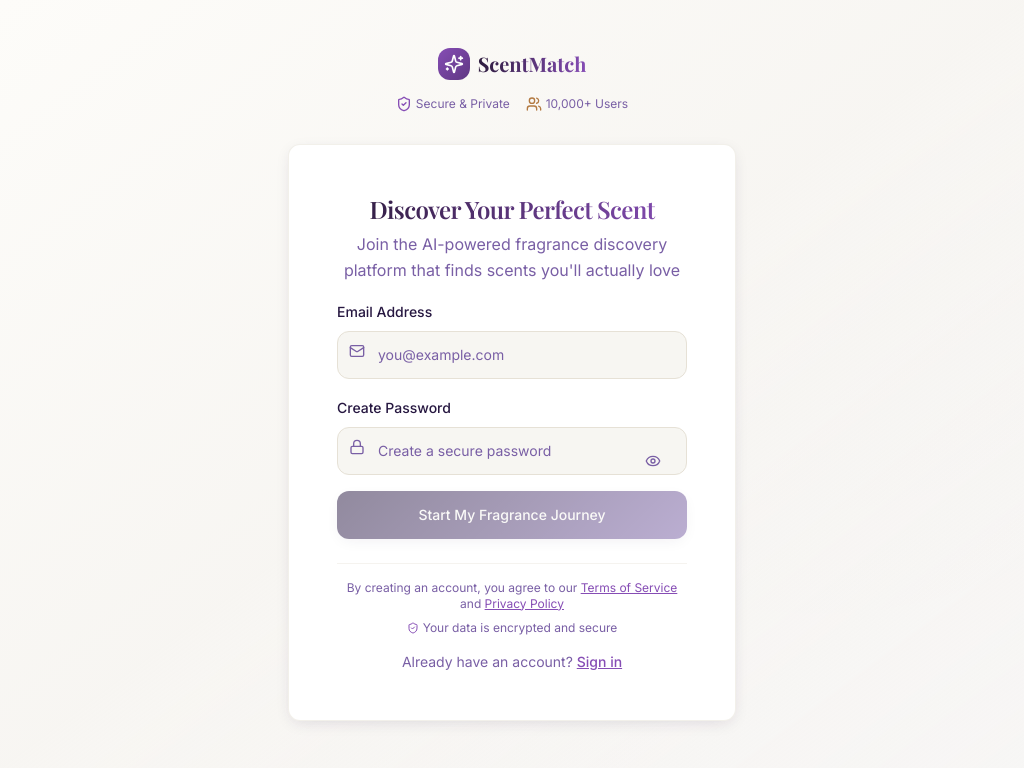
Test case: Authentication Integration - Final Validation › 1. Complete User Registration Flow › handles registration errors gracefully with recovery options
The width and height of the screenshot is (1024, 768).
Type "existing@example.com" into the field labelled "Email Address" at (512, 354), box top-left (337, 330), bottom-right (687, 378)
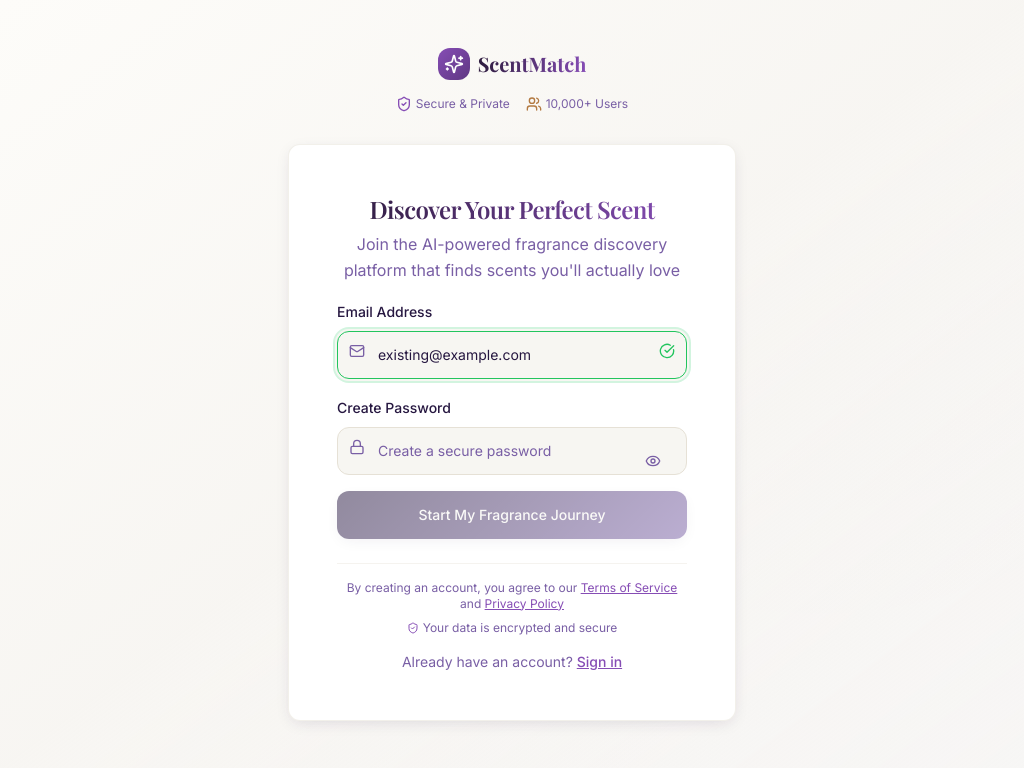
Type "SecurePassword123" into the password field labelled "Create Password" at (512, 450), box top-left (337, 426), bottom-right (687, 474)
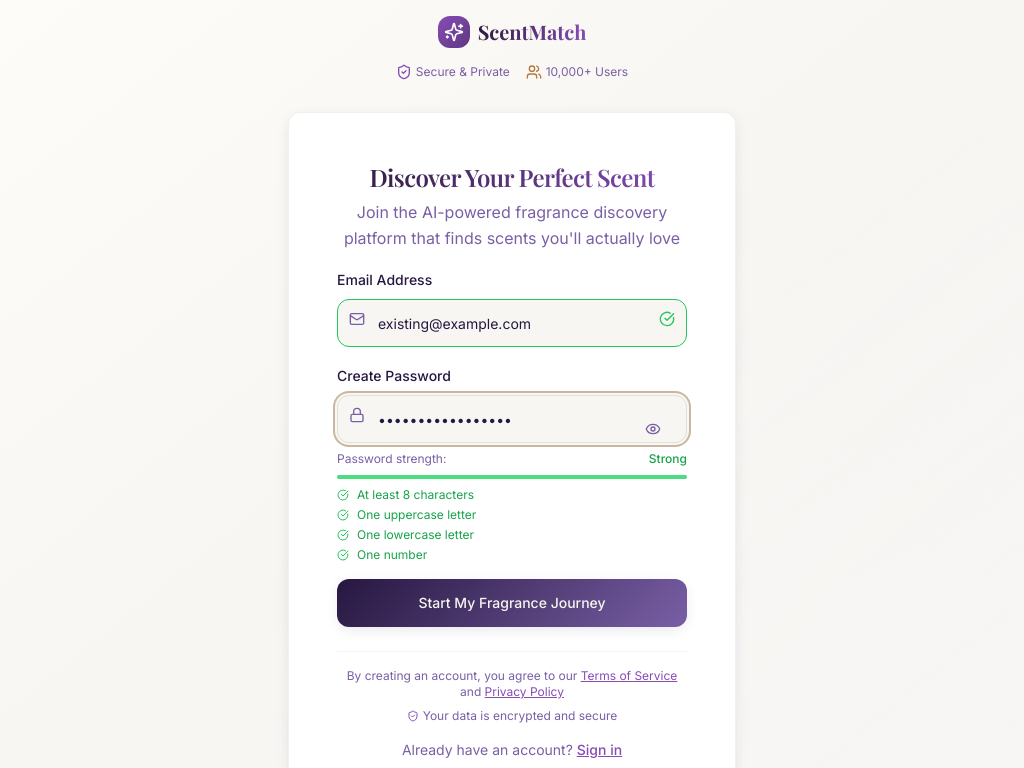
Click the button "Start My Fragrance Journey" at (512, 603), box top-left (337, 579), bottom-right (687, 627)
(page scrolled)
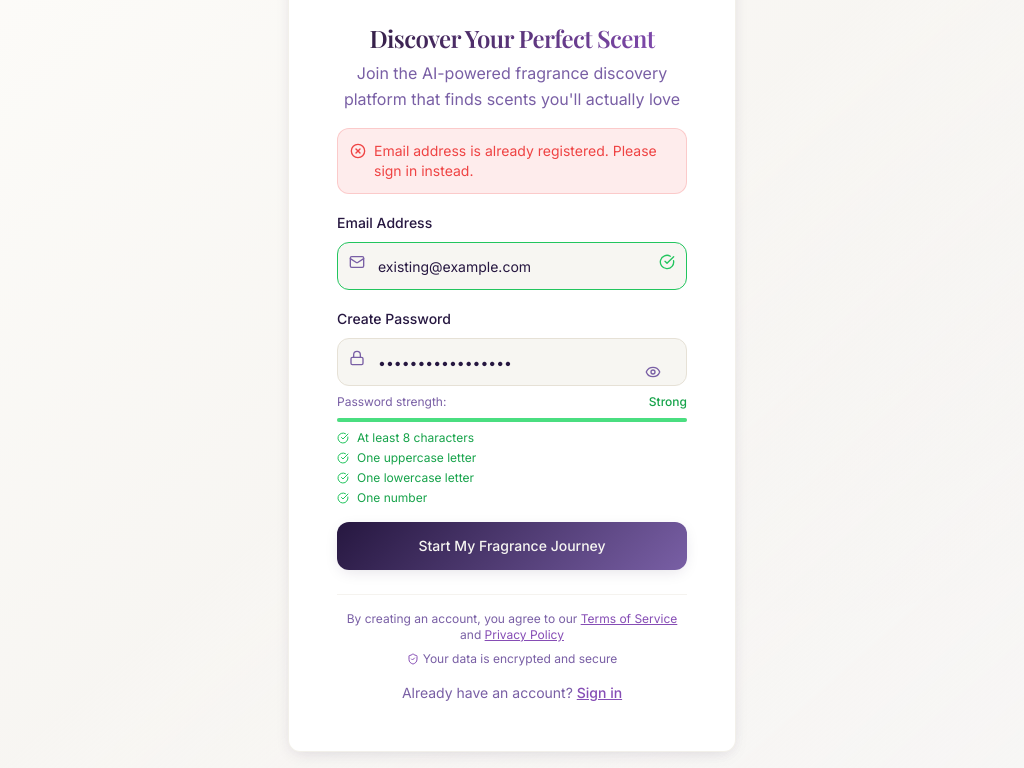
Expected: the button "Start My Fragrance Journey" is enabled, top-left (337, 522), bottom-right (687, 570)
Expected: the text "Email address is already registered. Please sign in instead." is shown, top-left (374, 141), bottom-right (674, 181)
